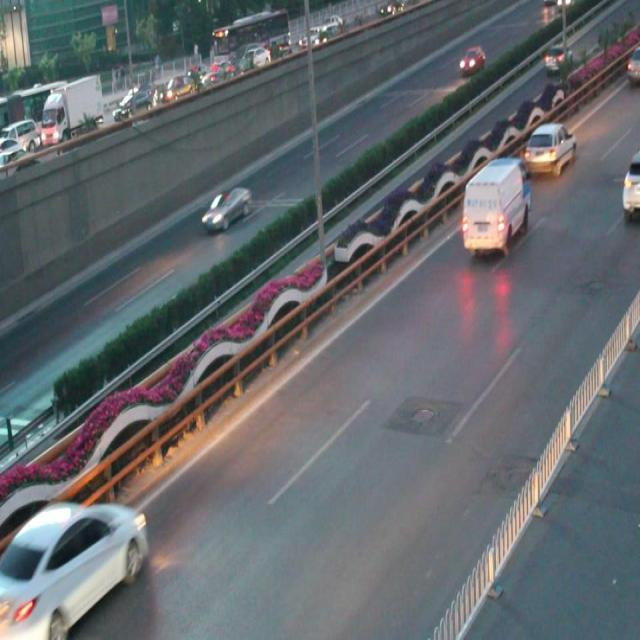car: (1, 500, 147, 632), (397, 167, 455, 222), (522, 118, 575, 176), (199, 185, 252, 230), (618, 152, 640, 214)
truck: (461, 158, 531, 256)
